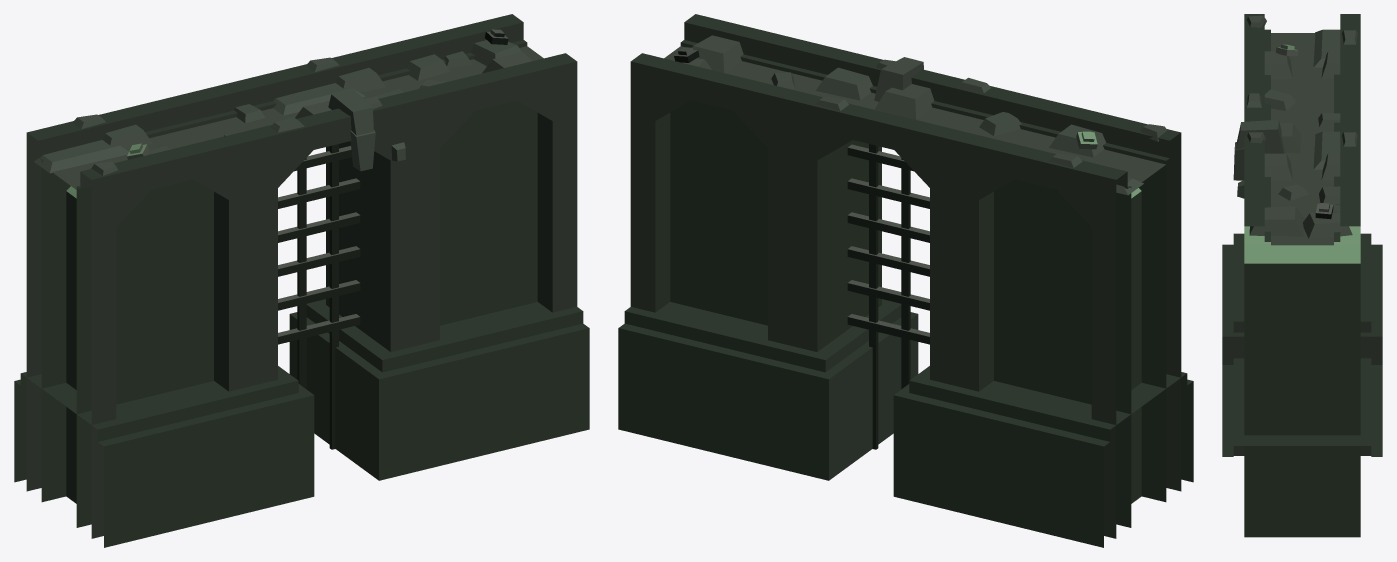
The model's file is SF_Bld_Elven_Castle_Wall_02.glb.
The picture shows the model from 3 angles, left to right: view 1: azimuth 30°, elevation 25°; view 2: azimuth 150°, elevation 25°; view 3: azimuth 270°, elevation 25°; orthographic projection. The views are drawn at different scales.
Parts seen in each view (by area): view 1: SF_Bld_Elven_Castle_Wall_02; view 2: SF_Bld_Elven_Castle_Wall_02; view 3: SF_Bld_Elven_Castle_Wall_02.
Boxes of the visible parts, <box> form: SF_Bld_Elven_Castle_Wall_02: <box>14,14,589,547</box>; SF_Bld_Elven_Castle_Wall_02: <box>618,14,1193,547</box>; SF_Bld_Elven_Castle_Wall_02: <box>1222,14,1382,537</box>.
Size of the model in its own units: 0.1508 by 0.1085 by 0.0479.
Materials: 1 (1 with a texture image).
